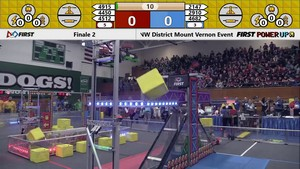cube: (134, 69, 170, 98)
